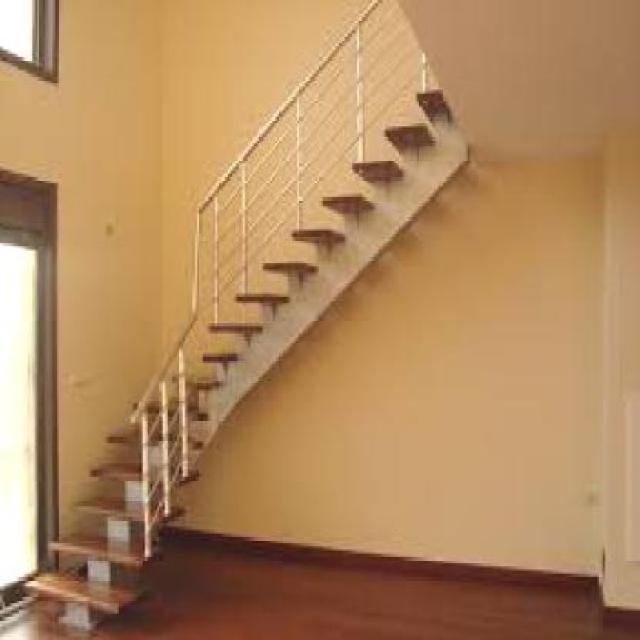stair: (15, 33, 500, 636)
